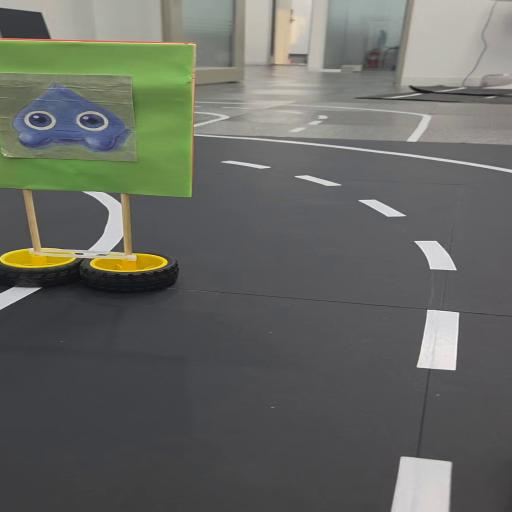Sign_B: (5, 34, 214, 295)
